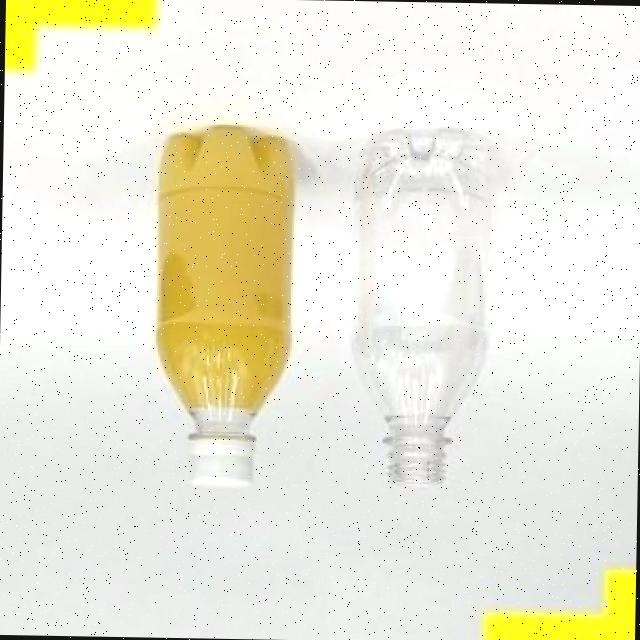bottle: (124, 97, 322, 514), (320, 111, 513, 502)
cap: (184, 432, 262, 492)
